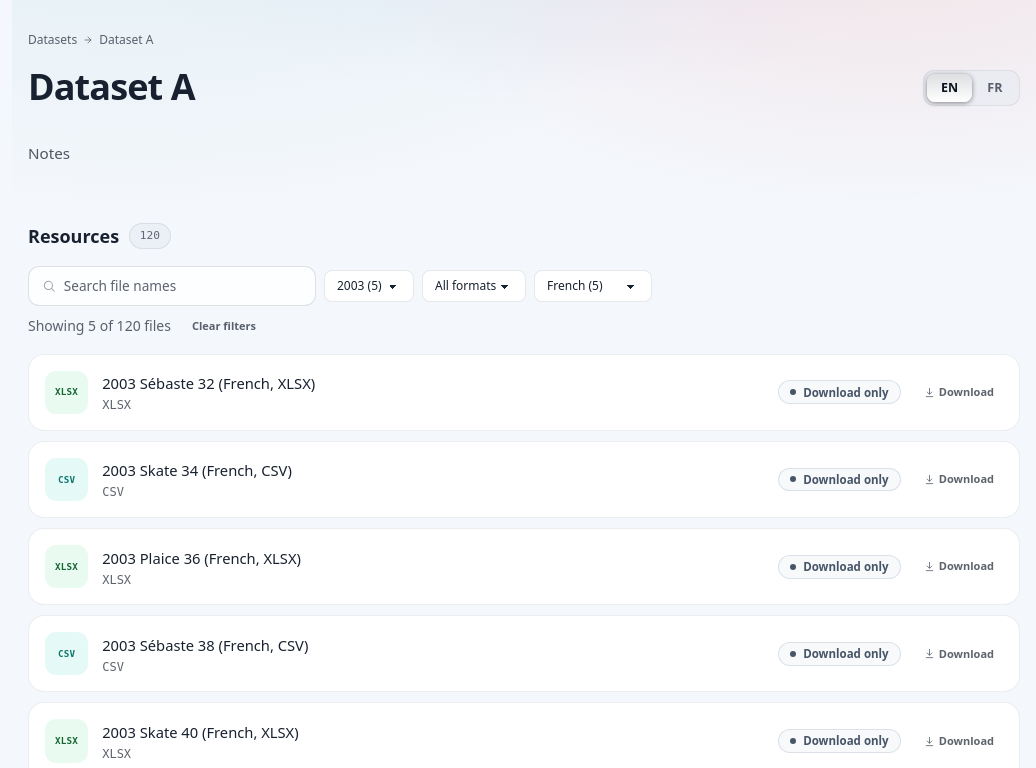
Test case: DatasetPage file filter › a shared link opens the filtered list, and an empty result says so
Check: the text "Showing 5 of 120 files" is shown, box [28,316,171,336]
Check: the dropdown named "Year" shows "2003 (5)", box [324,270,414,302]
Type "nothing like this" into the field labelled "Search file names". click: (183, 286)
box: [64,267,302,305]
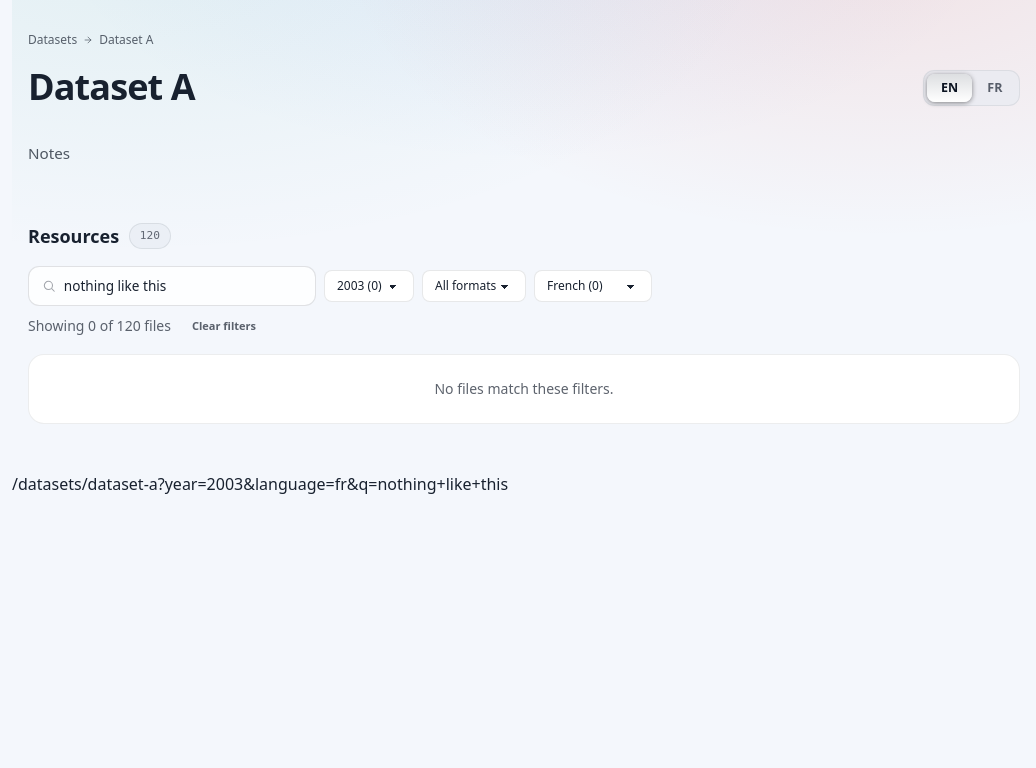
Check: the text "No files match these filters." is shown, box [28,354,1020,424]
